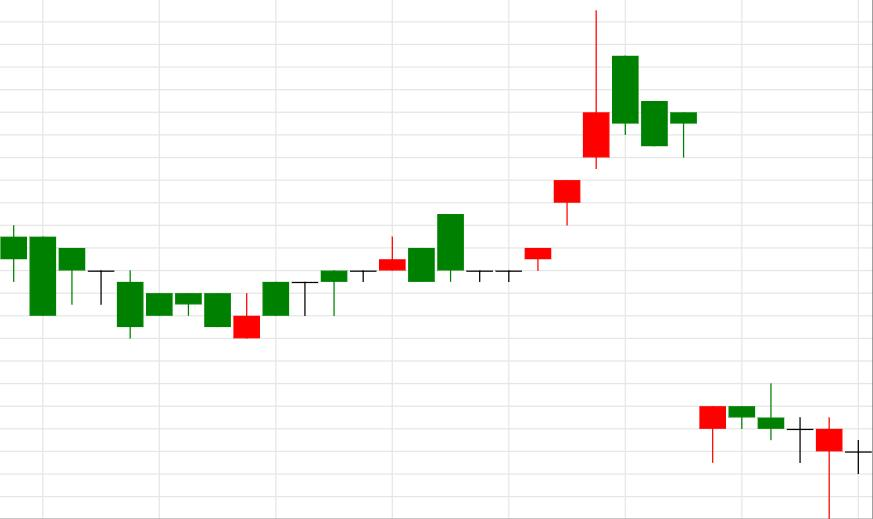shooting_star_fall: (467, 12, 611, 282)
